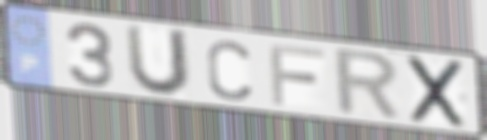3: (63, 21, 115, 88)
C: (204, 37, 255, 103)
F: (267, 41, 328, 108)
R: (333, 46, 405, 124)
U: (123, 21, 193, 99)
X: (406, 53, 469, 131)
